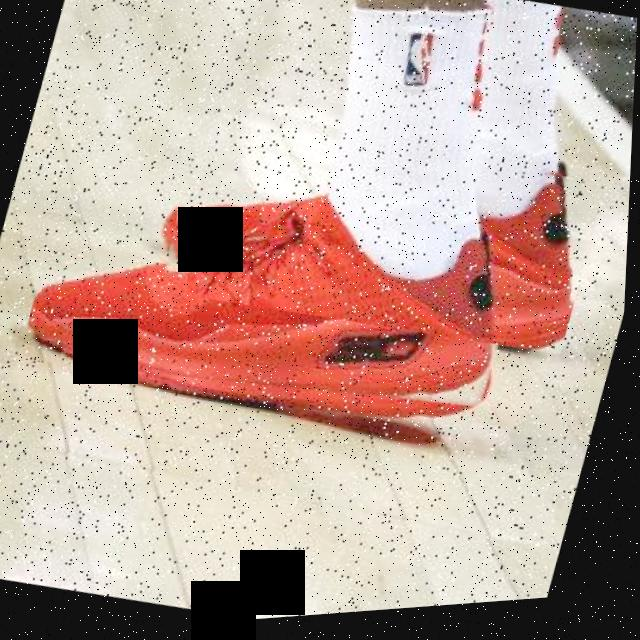shoe: (17, 119, 544, 468), (150, 86, 615, 387)
